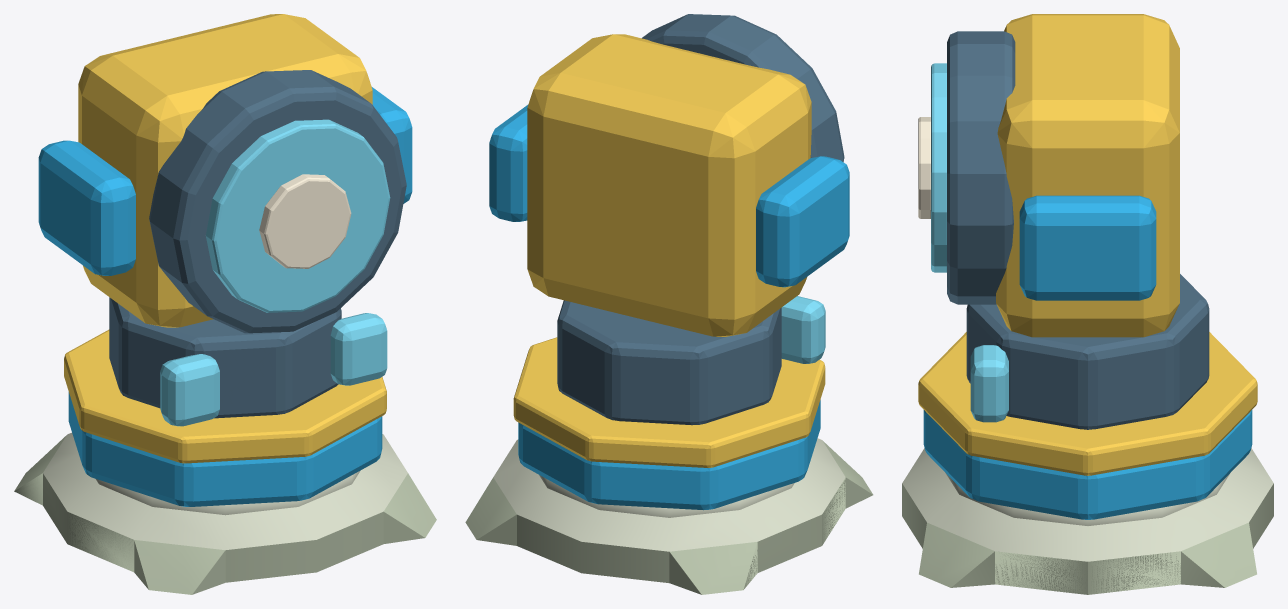
File: PulseBeacon.fbx
3 renders of one model, left to right at view 1: azimuth 30°, elevation 25°; view 2: azimuth 150°, elevation 25°; view 3: azimuth 270°, elevation 25°, orthographic. The views are drawn at different scales.
Parts seen in each view (by area): view 1: PulseBeacon.001; view 2: PulseBeacon.001; view 3: PulseBeacon.001.
Boxes of the visible parts, <box> form: PulseBeacon.001: <box>14,14,436,594</box>; PulseBeacon.001: <box>465,14,873,594</box>; PulseBeacon.001: <box>902,14,1273,594</box>.
Size of the model in its own units: 88 by 122 by 87.
